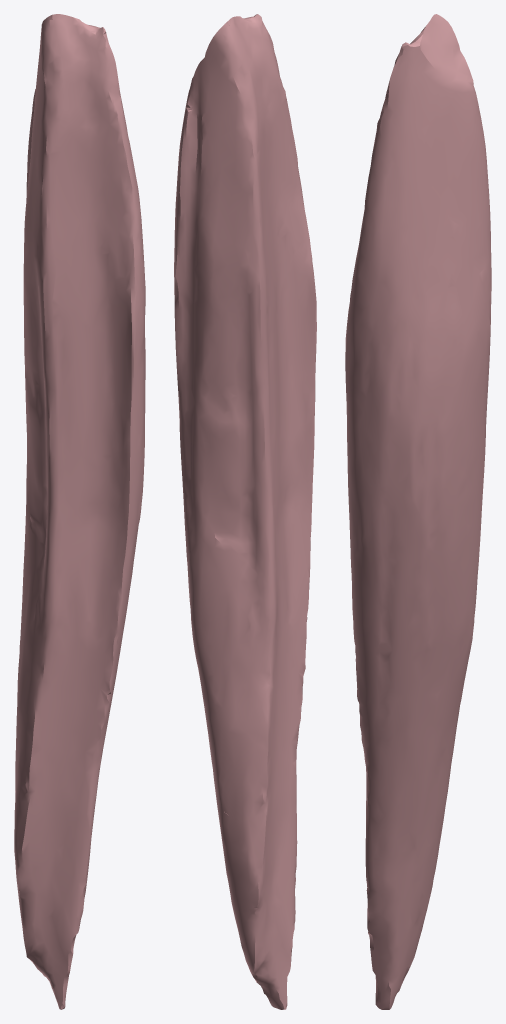
File: fma297998_mm1712.glb
3 views of the same model, side by side, from view 1: azimuth 90°, elevation 25°; view 2: azimuth 150°, elevation 25°; view 3: azimuth 330°, elevation 25° (orthographic). The views are drawn at different scales.
Parts seen in each view (by area): view 1: FMA297998_MM1712; view 2: FMA297998_MM1712; view 3: FMA297998_MM1712.
Part boxes in pixels (x1,y1,x2,y2): FMA297998_MM1712: (14, 14, 145, 1009); FMA297998_MM1712: (174, 14, 316, 1009); FMA297998_MM1712: (345, 14, 491, 1009).
Bounding box in the file's own units: 0.0311 × 0.2844 × 0.035.
